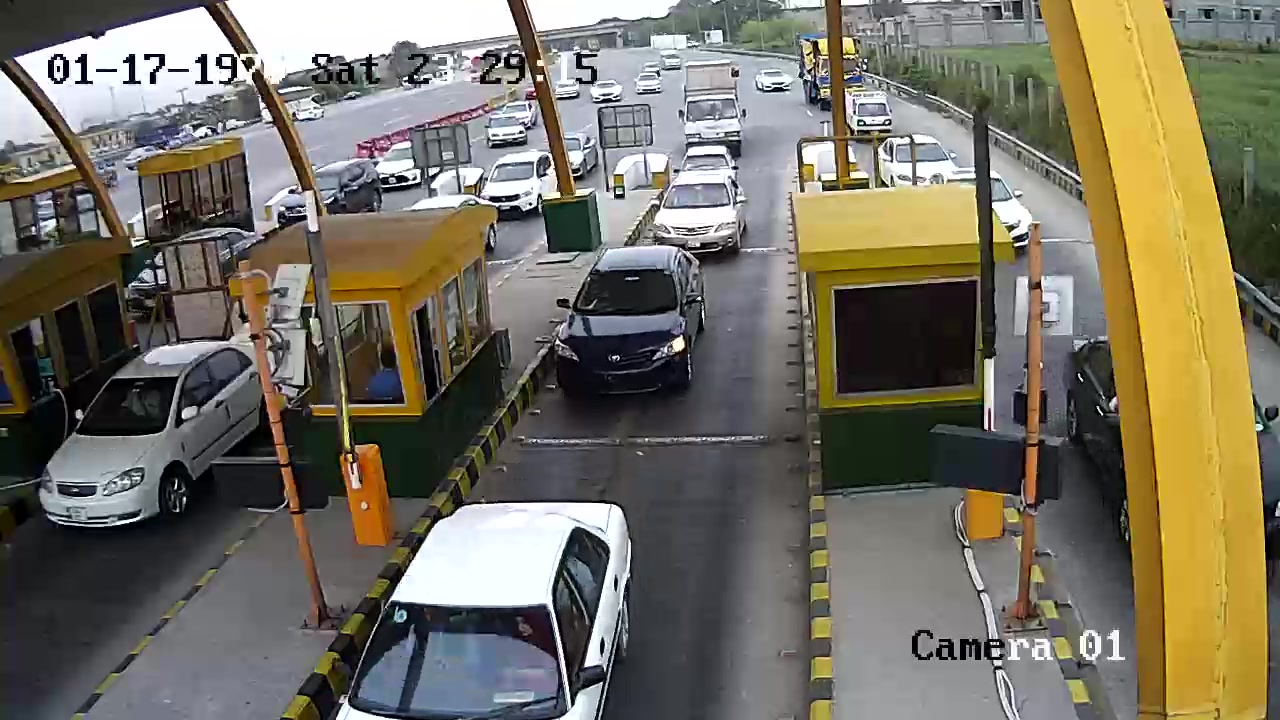F1: (546, 234, 708, 415)
